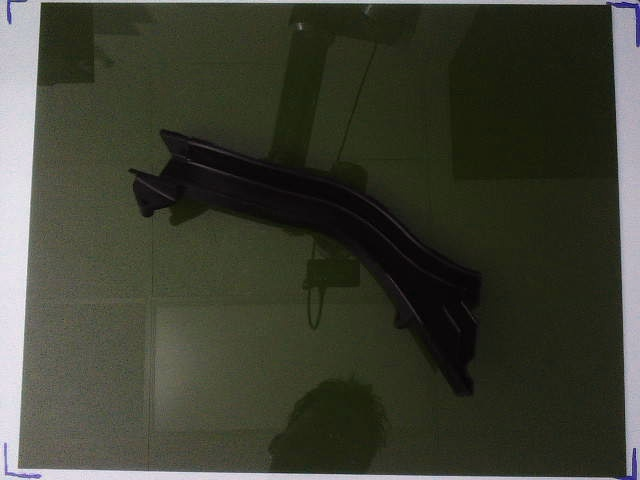887_A-Under: (131, 130, 480, 397)
